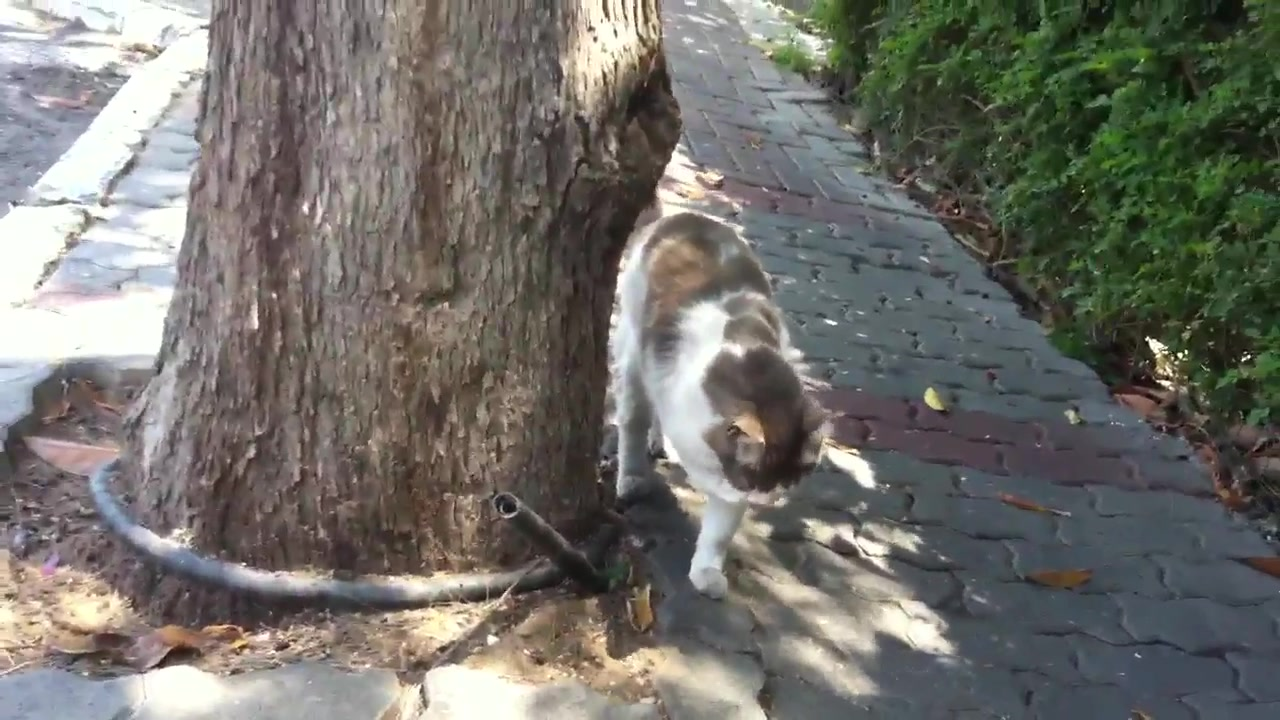cat: (613, 206, 834, 600)
